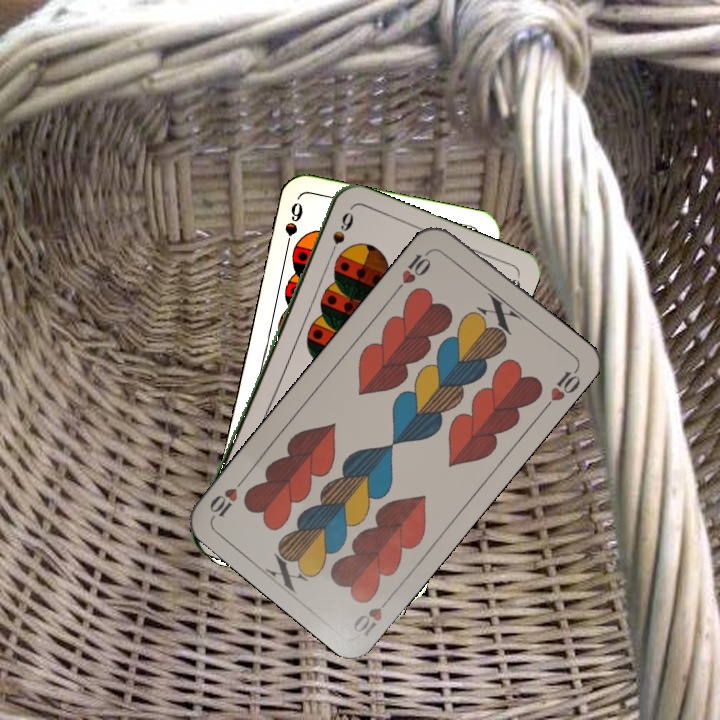H10: (348, 589, 397, 639), (392, 245, 435, 295)
S9: (324, 208, 356, 263), (280, 198, 306, 256)
